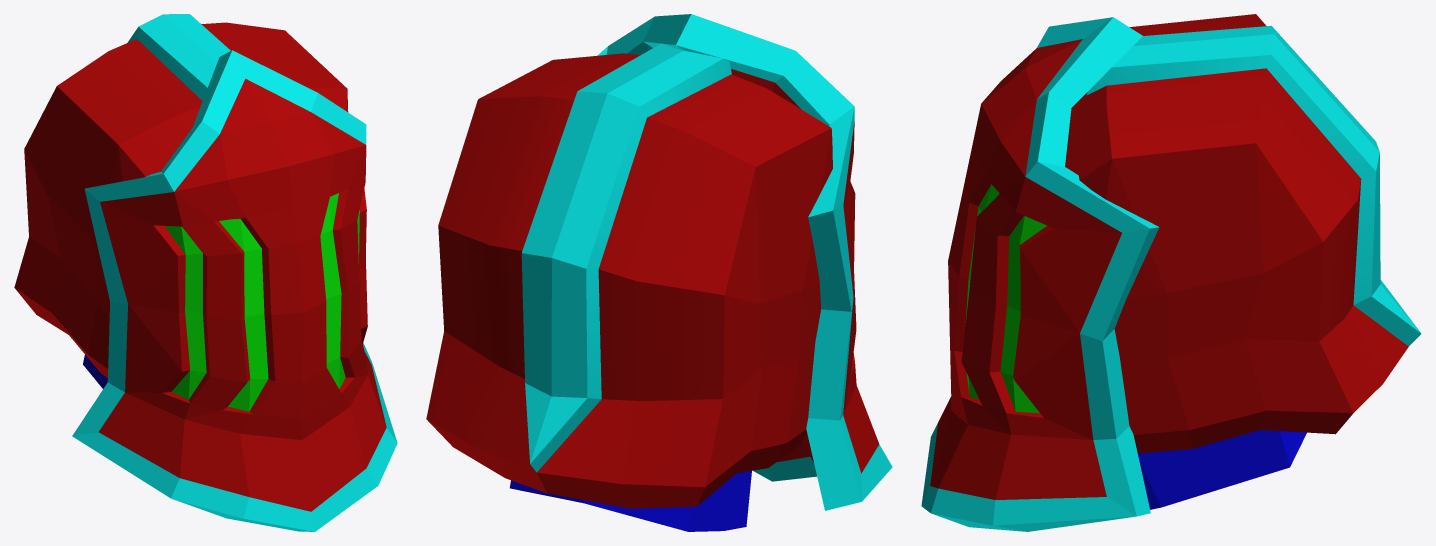
Rendered from Chr_Head_No_Elements_Male_Static_08.fbx.
3 views of the same model, side by side, from view 1: azimuth 30°, elevation 25°; view 2: azimuth 150°, elevation 25°; view 3: azimuth 270°, elevation 25° (orthographic). The views are drawn at different scales.
Visible parts, largest first — view 1: Chr_Head_No_Elements_Male_08; view 2: Chr_Head_No_Elements_Male_08; view 3: Chr_Head_No_Elements_Male_08.
Part boxes in pixels (box(x1,y1,x2,y2)): Chr_Head_No_Elements_Male_08: box(14, 14, 397, 531); Chr_Head_No_Elements_Male_08: box(426, 14, 892, 531); Chr_Head_No_Elements_Male_08: box(921, 14, 1421, 531).
Size of the model in its own units: 28.43 by 39.14 by 35.31.
